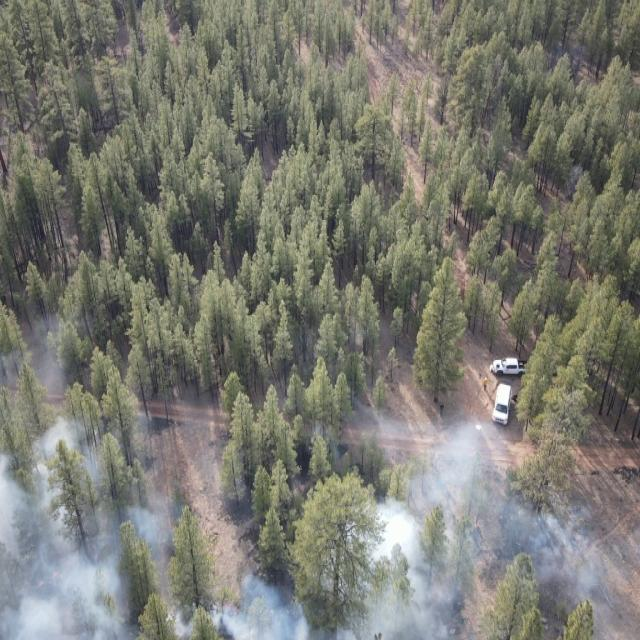fire: (26, 558, 80, 592), (217, 596, 240, 622), (468, 516, 487, 535)
smoke: (0, 414, 181, 640), (309, 380, 492, 572), (490, 491, 640, 639), (180, 571, 470, 640), (0, 314, 103, 398)
